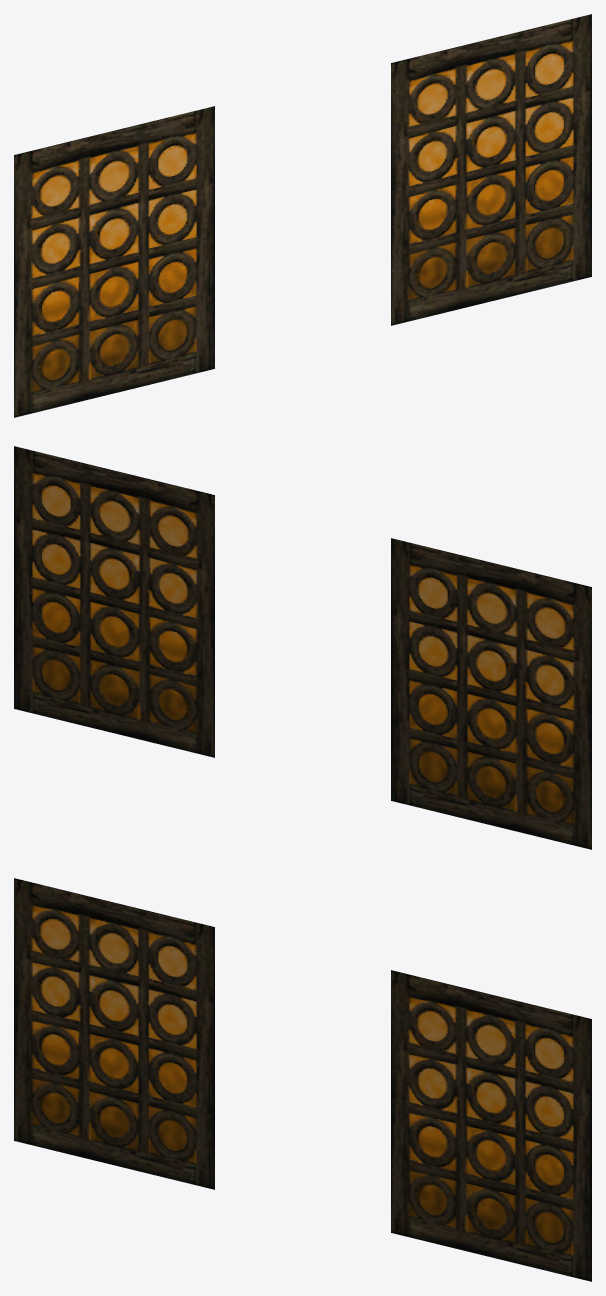
Rendered from LAKETOWN_EXTERIOR_PS_LT_WINDOWS2499.fbx.
3 views of the same model, one above another, from view 1: azimuth 30°, elevation 25°; view 2: azimuth 150°, elevation 25°; view 3: azimuth 330°, elevation 25° (orthographic).
Visible parts, largest first — view 1: LAKETOWN_EXTERIOR_PS_LT_WINDOWS2499; view 2: LAKETOWN_EXTERIOR_PS_LT_WINDOWS2499; view 3: LAKETOWN_EXTERIOR_PS_LT_WINDOWS2499.
Boxes of the visible parts, box(x1,y1,x2,y2) form: LAKETOWN_EXTERIOR_PS_LT_WINDOWS2499: box(14, 14, 591, 417); LAKETOWN_EXTERIOR_PS_LT_WINDOWS2499: box(14, 446, 591, 849); LAKETOWN_EXTERIOR_PS_LT_WINDOWS2499: box(14, 878, 591, 1281).
Bounding box in the file's own units: 33709 × 14646 × 0.0268.
1 material, 1 textured.
